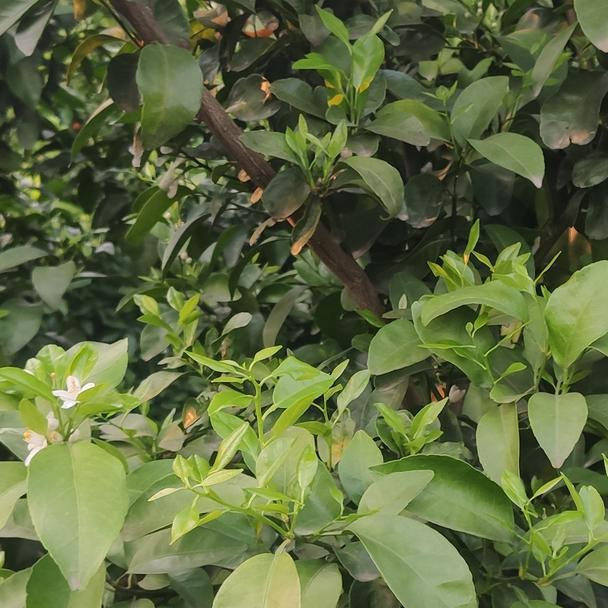shoot: (194, 342, 322, 450), (170, 450, 297, 543), (491, 468, 584, 575), (435, 322, 531, 388)
